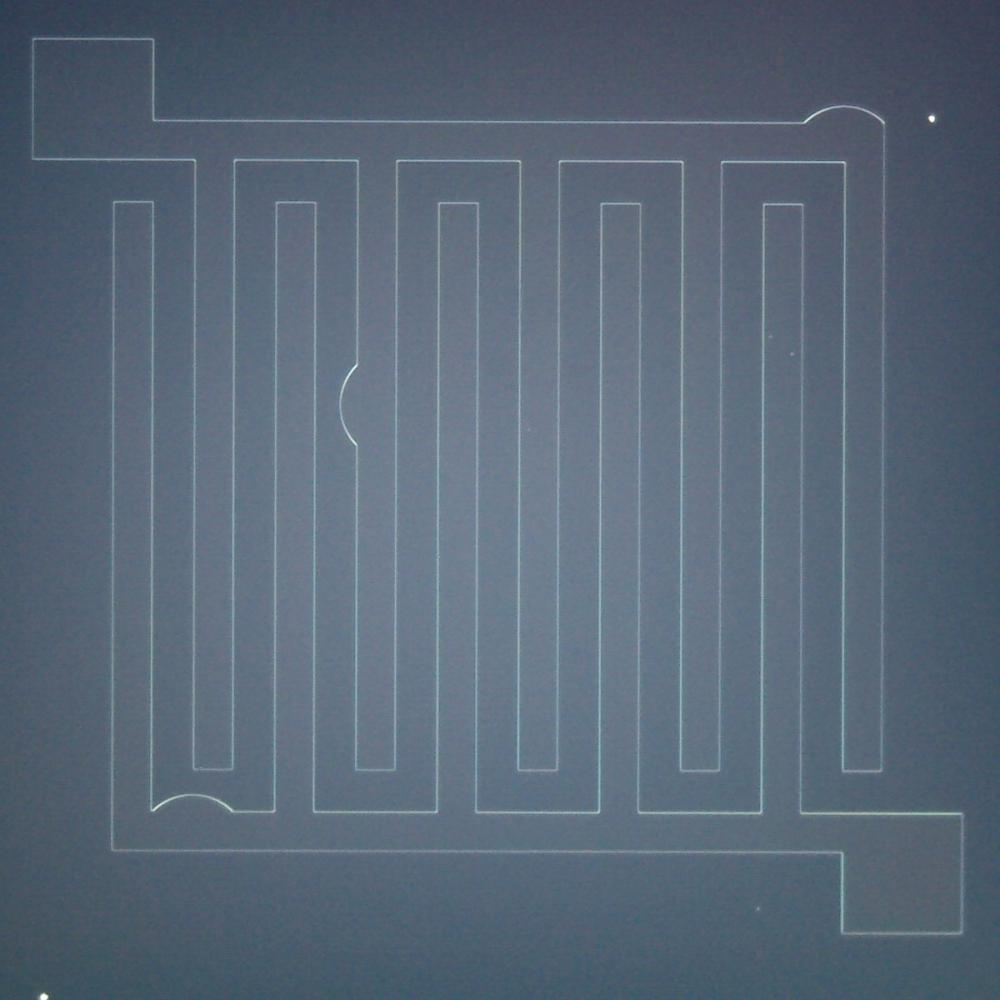dot: (38, 991, 49, 999), (928, 114, 936, 124), (756, 906, 760, 910), (768, 334, 772, 338), (790, 352, 794, 356), (527, 427, 531, 431)
